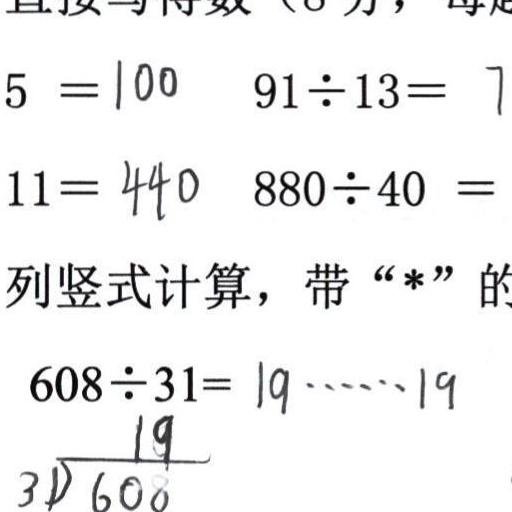ans: (249, 355, 457, 415), (117, 155, 200, 221), (108, 53, 177, 107), (479, 56, 507, 115)
